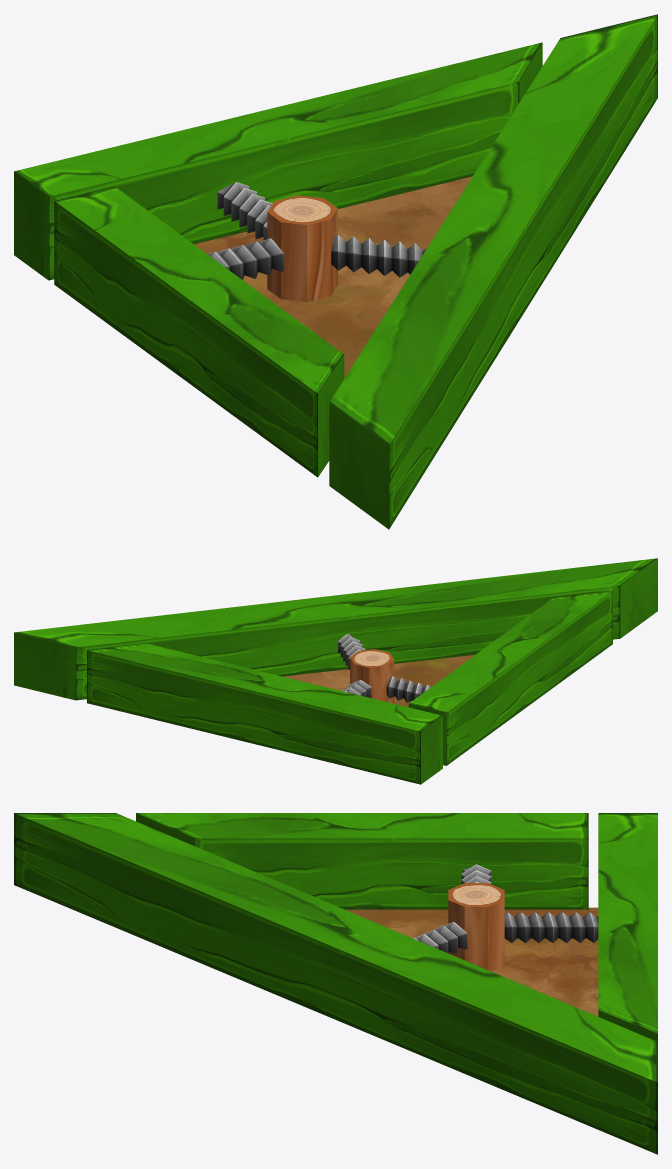
Rendered from triangle_green_04.fbx.
3 renders of one model, top to bottom at view 1: azimuth 30°, elevation 25°; view 2: azimuth 150°, elevation 25°; view 3: azimuth 270°, elevation 25°, orthographic. The views are drawn at different scales.
Parts seen in each view (by area): view 1: wall_78, wall_76, wall_77, floor_3, Middle_9, spring_12, spring_10, spring_11; view 2: wall_78, wall_76, wall_77, floor_3, Middle_9, spring_10, spring_12; view 3: wall_78, wall_77, wall_76, floor_3, Middle_9, spring_11, spring_12.
Part boxes in pixels (<box>): wall_78: <box>329,14,657,529</box>; wall_76: <box>14,42,542,280</box>; wall_77: <box>54,186,344,477</box>; floor_3: <box>194,176,472,378</box>; Middle_9: <box>267,195,337,301</box>; spring_12: <box>331,234,427,277</box>; spring_10: <box>207,238,284,279</box>; spring_11: <box>217,182,272,240</box>; wall_78: <box>14,558,657,700</box>; wall_76: <box>87,643,442,784</box>; wall_77: <box>408,591,612,765</box>; floor_3: <box>283,655,474,707</box>; Middle_9: <box>350,649,394,703</box>; spring_10: <box>386,676,430,702</box>; spring_12: <box>338,634,365,669</box>; wall_78: <box>14,813,657,1154</box>; wall_77: <box>136,813,588,909</box>; wall_76: <box>598,813,657,1041</box>; floor_3: <box>345,907,598,1016</box>; Middle_9: <box>448,883,504,971</box>; spring_11: <box>504,912,598,942</box>; spring_12: <box>413,922,467,953</box>.
Bounding box in the file's own units: 322 × 40 × 324.
